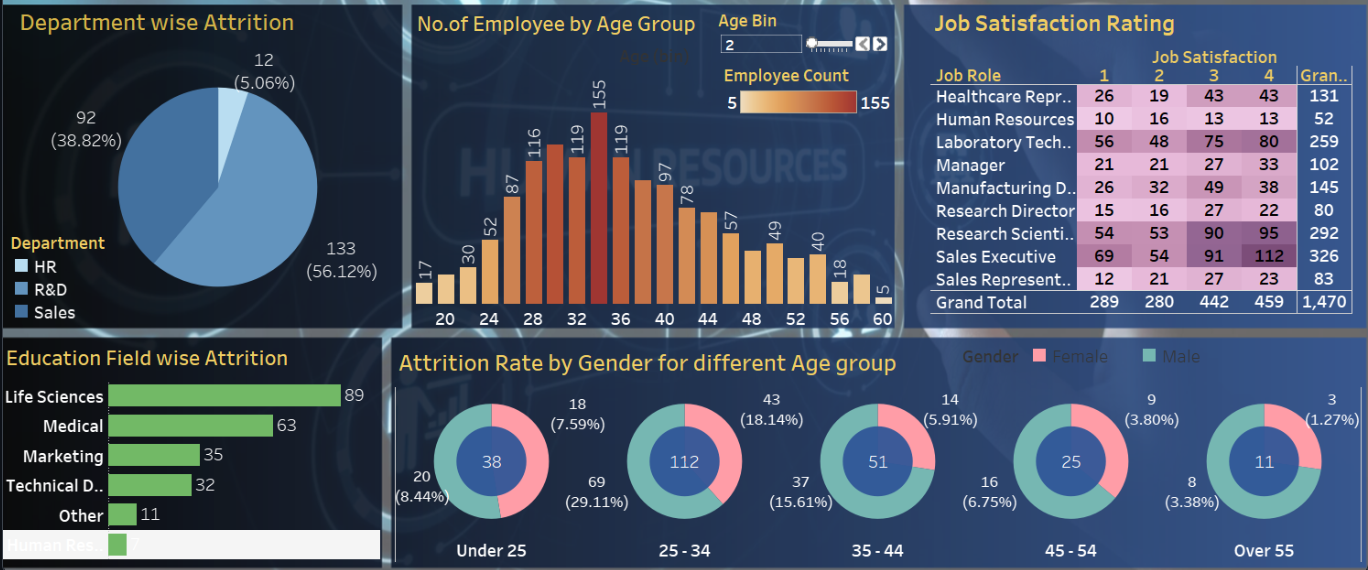

Layout of this report page (visuals, bound fields, positions):
{"tool":"tableau","page":{"name":"HR Analytics Dashboard","canvas":[1580,900],"ordinal":0},"visuals":[{"type":"image","box":[8,8,50.9,884]},{"type":"image","param":"Image/HR background.pptx.png","box":[58.9,8,1513.2,884]},{"type":"text","box":[75,35,1486,62]},{"type":"filter","title":"Sheet 1","param":"[federated.021bp4y0e0vbvv148qwoh1lmigm6].[none:Education:nk]","box":[1194,36,228,61]},{"type":"worksheet","title":"Attrition by Gender","mark":"Automatic","rows":["Gender"],"cols":["Calculation_605734161348820992","Calculation_605734161348820992"],"box":[1365,109,197,130]},{"type":"worksheet","title":"Sheet 1","mark":"Automatic","box":[68,110,1282,128]},{"type":"worksheet","title":"Department wise Attrition","mark":"Pie","box":[86,249,441,355]},{"type":"worksheet","title":"Job Satisfaction Rating","mark":"Square","rows":["Job Role"],"cols":["Job Satisfaction"],"box":[1085,250,480,354]},{"type":"worksheet","title":"No.of Employee by Age Group ","mark":"Automatic","rows":["Employee Count"],"cols":["Age (bin)"],"box":[520,252,526,355]},{"type":"parameter","param":"[Parameters].[Parameter 1]","box":[853,255,188,55]},{"type":"legend","title":"No.of Employee by Age Group ","param":"[federated.021bp4y0e0vbvv148qwoh1lmigm6].[sum:Employee Count:qk]","box":[859,315,187,68]},{"type":"legend","title":"Department wise Attrition","param":"[federated.021bp4y0e0vbvv148qwoh1lmigm6].[none:Department:nk]","box":[80,498,140,101]},{"type":"worksheet","title":"Education Field wise Attrition","mark":"Automatic","rows":["Education Field"],"cols":["Calculation_605734161348820992"],"box":[71,617,413,240]},{"type":"worksheet","title":"Attrition Rate by Gender for different Age group","mark":"Pie","rows":["Calculation_656962607377698817","Calculation_656962607377698817"],"cols":["CF_age band"],"box":[500,621,1056,240]},{"type":"legend","title":"Attrition Rate by Gender for different Age group","param":"[federated.021bp4y0e0vbvv148qwoh1lmigm6].[none:Gender:nk]","box":[1120,622,415,37]}]}

Visuals, with their boxes on the page's 1580x900 design canvas (x1, y1, x2, y2). These are canvas units, not pixel positions in the 1368x570 screenshot, which may show the page scaled, cropped or inside an application window:
image: locate(8, 8, 59, 892)
image: locate(59, 8, 1572, 892)
text: locate(75, 35, 1561, 97)
"Sheet 1" filter: locate(1194, 36, 1422, 97)
"Attrition by Gender" worksheet: locate(1365, 109, 1562, 239)
"Sheet 1" worksheet: locate(68, 110, 1350, 238)
"Department wise Attrition" worksheet (Pie marks): locate(86, 249, 527, 604)
"Job Satisfaction Rating" worksheet (Square marks): locate(1085, 250, 1565, 604)
"No.of Employee by Age Group " worksheet: locate(520, 252, 1046, 607)
parameter: locate(853, 255, 1041, 310)
"No.of Employee by Age Group " legend: locate(859, 315, 1046, 383)
"Department wise Attrition" legend: locate(80, 498, 220, 599)
"Education Field wise Attrition" worksheet: locate(71, 617, 484, 857)
"Attrition Rate by Gender for different Age group" worksheet (Pie marks): locate(500, 621, 1556, 861)
"Attrition Rate by Gender for different Age group" legend: locate(1120, 622, 1535, 659)
